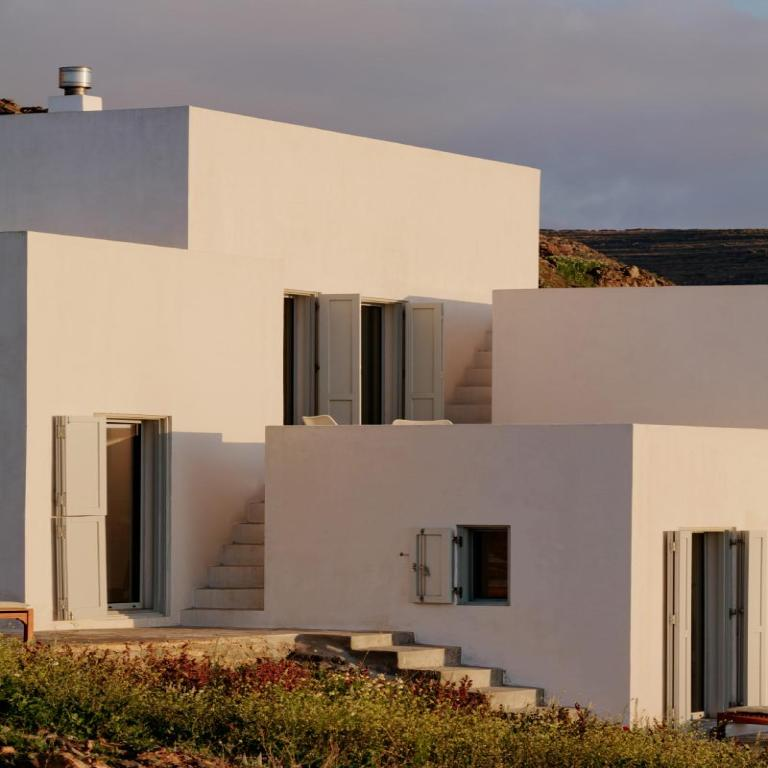white-walls: (67, 149, 756, 655)
